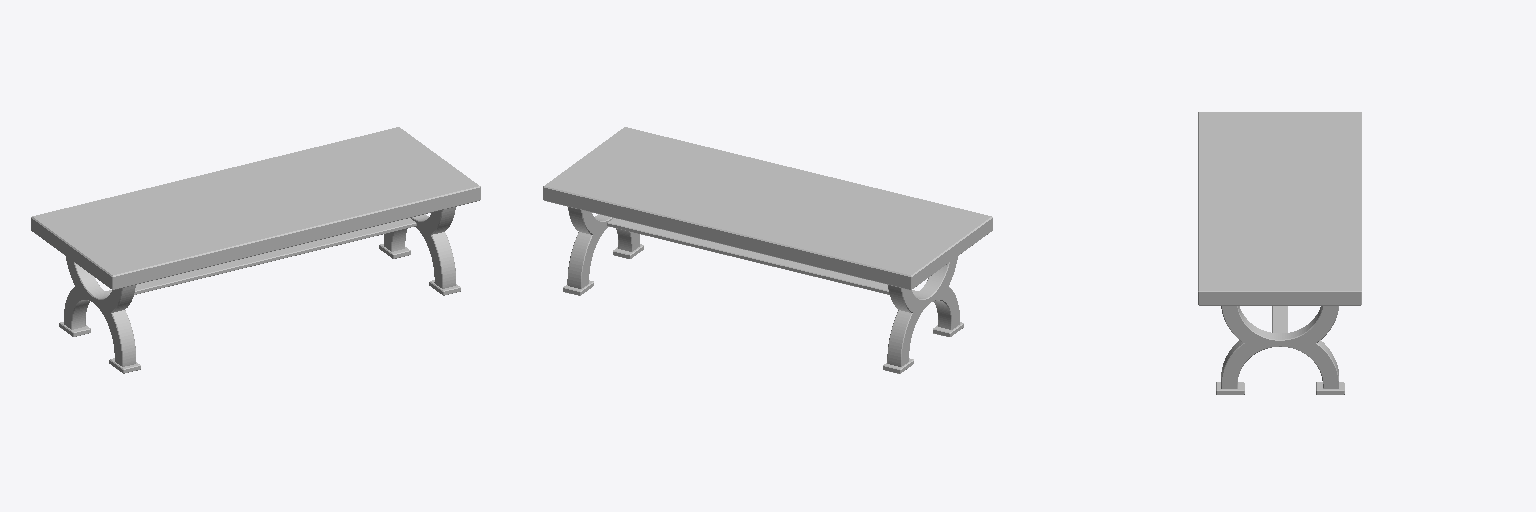
The model's file is table.obj.
3 views of the same model, side by side, from view 1: azimuth 30°, elevation 25°; view 2: azimuth 150°, elevation 25°; view 3: azimuth 270°, elevation 25° (orthographic).
Parts seen in each view (by area): view 1: Auxiliar_Table_003; view 2: Auxiliar_Table_003; view 3: Auxiliar_Table_003.
Boxes of the visible parts, x1,y1,x2,y2 form: Auxiliar_Table_003: [31, 127, 480, 373]; Auxiliar_Table_003: [543, 127, 992, 373]; Auxiliar_Table_003: [1198, 112, 1361, 394].
Size of the model in its own units: 130 by 36.89 by 50.